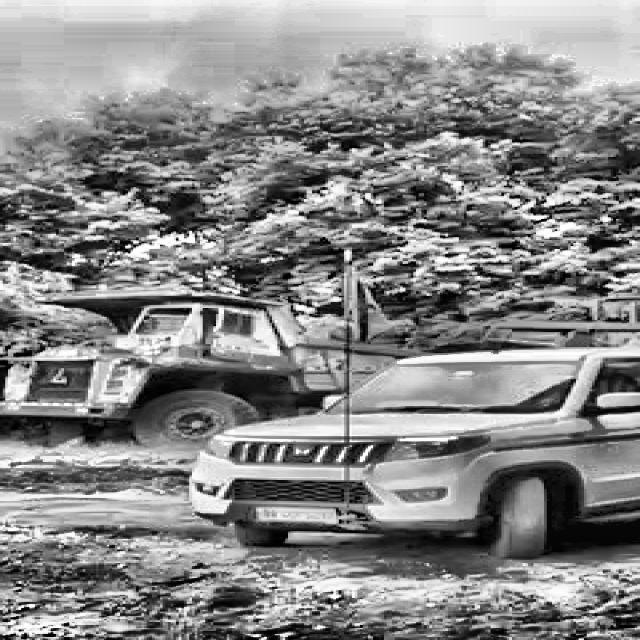light_vehicle: (186, 348, 640, 554)
